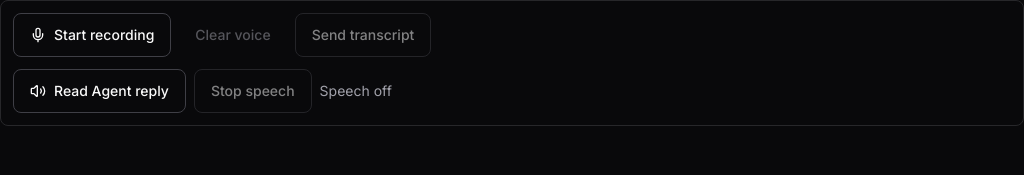
Test: Agent voice controls › handles permission errors and returns to a retryable state
What coordinates should you click on to do the following:
click the button "Start recording"
I would click on:
 (92, 35)
Its box is [13,13,171,57].
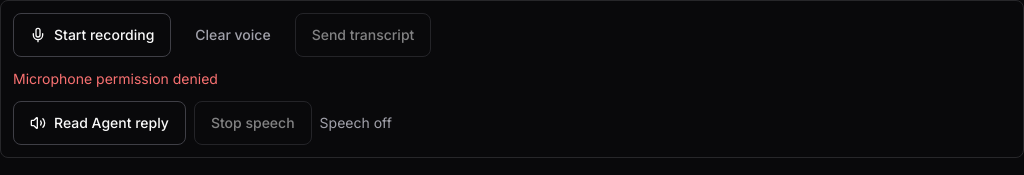
Check: the button "Send transcript" is disabled, box [295,13,431,57]
Check: the message "Microphone permission denied" is shown, box [13,70,218,87]
